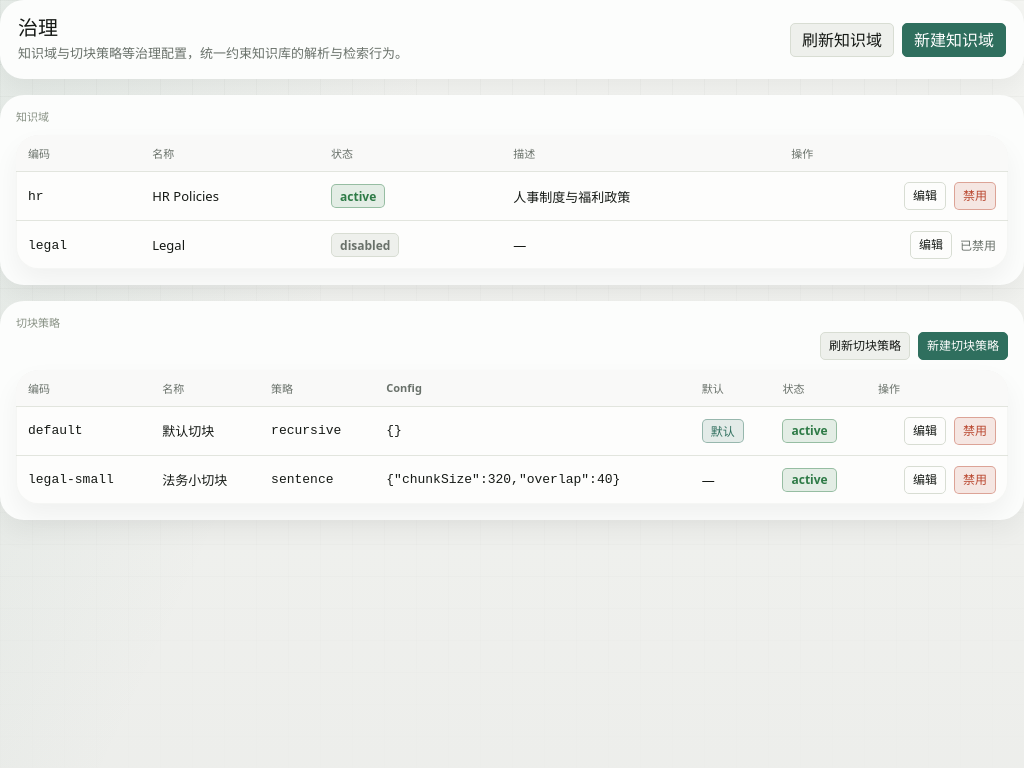
Test: GovernanceConsolePage knowledge domains › edits a knowledge domain and refreshes the domain list
Click the button with aria-label "编辑知识域 legal" at (931, 245), box [910, 231, 952, 259]
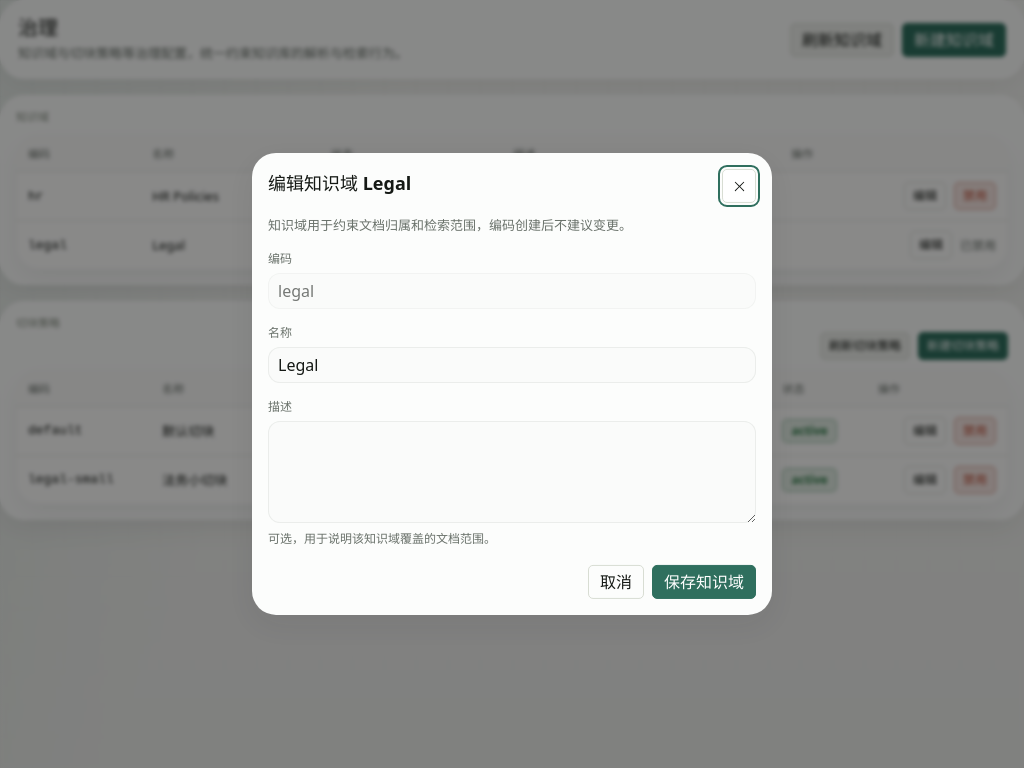
Check: the field labelled "编码" holds "legal", box [268, 273, 756, 309]
Replace the text in the field labelled "名称" with " 法务制度 " at (512, 365), box [268, 347, 756, 383]
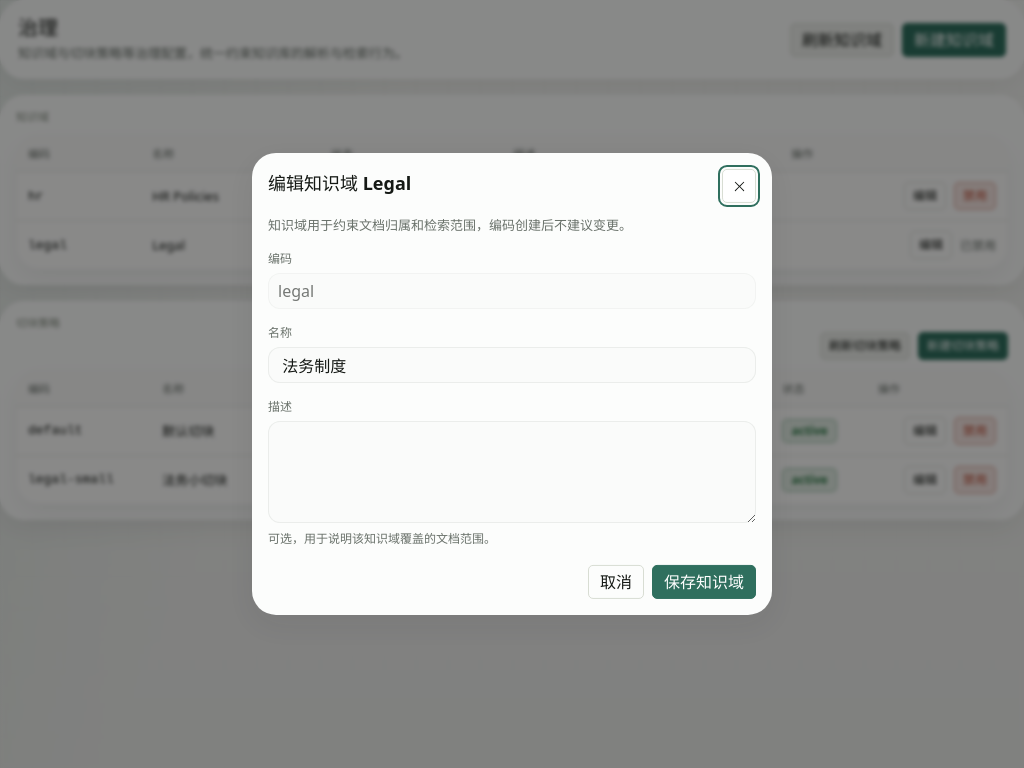
Type " 合同与合规流程 " into the text box labelled "描述" at (512, 472), box [268, 421, 756, 523]
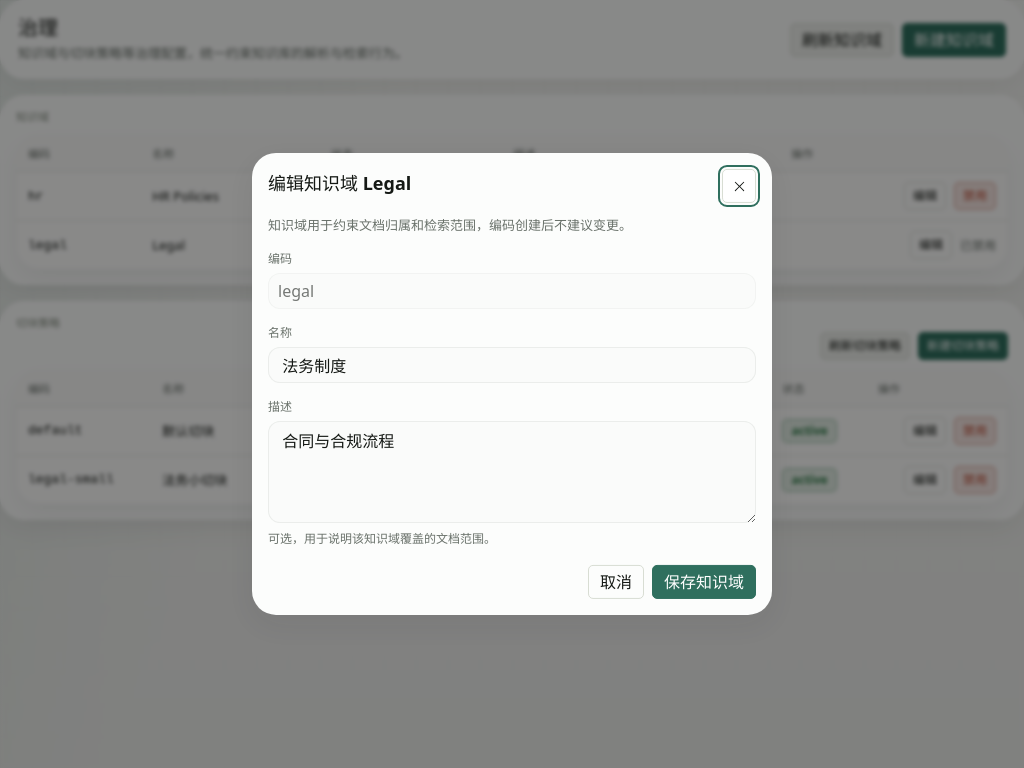
Click the button "保存知识域" at (704, 582), box [652, 565, 756, 599]
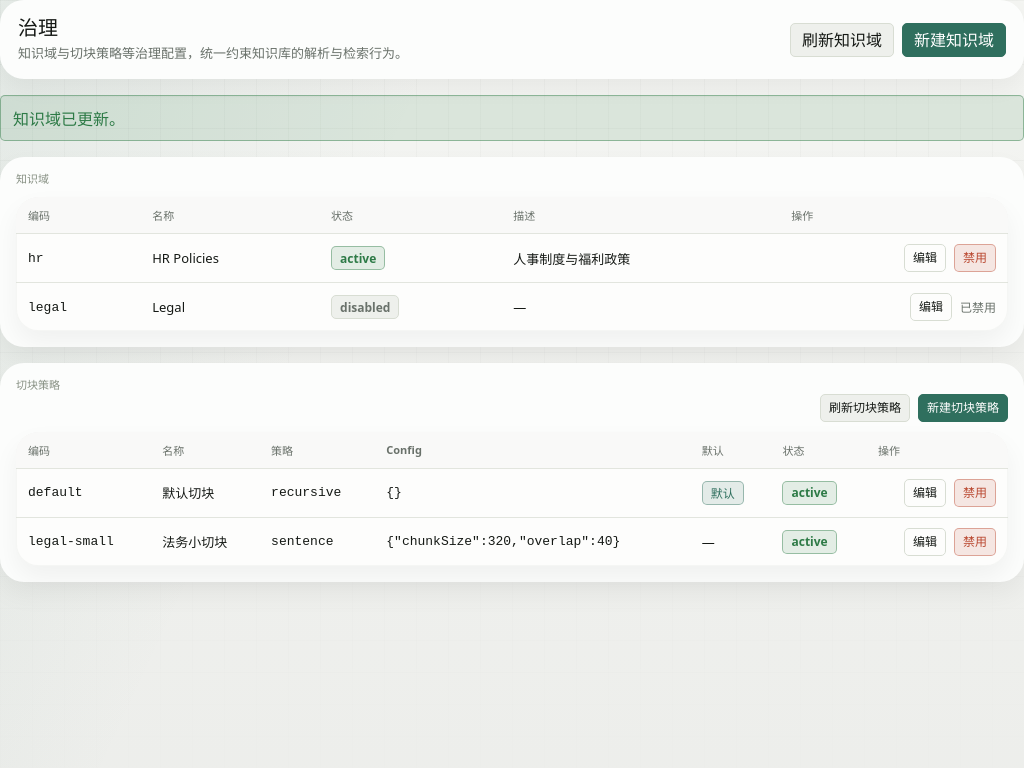
Check: the text "知识域已更新。" is shown, box [0, 95, 1023, 141]
